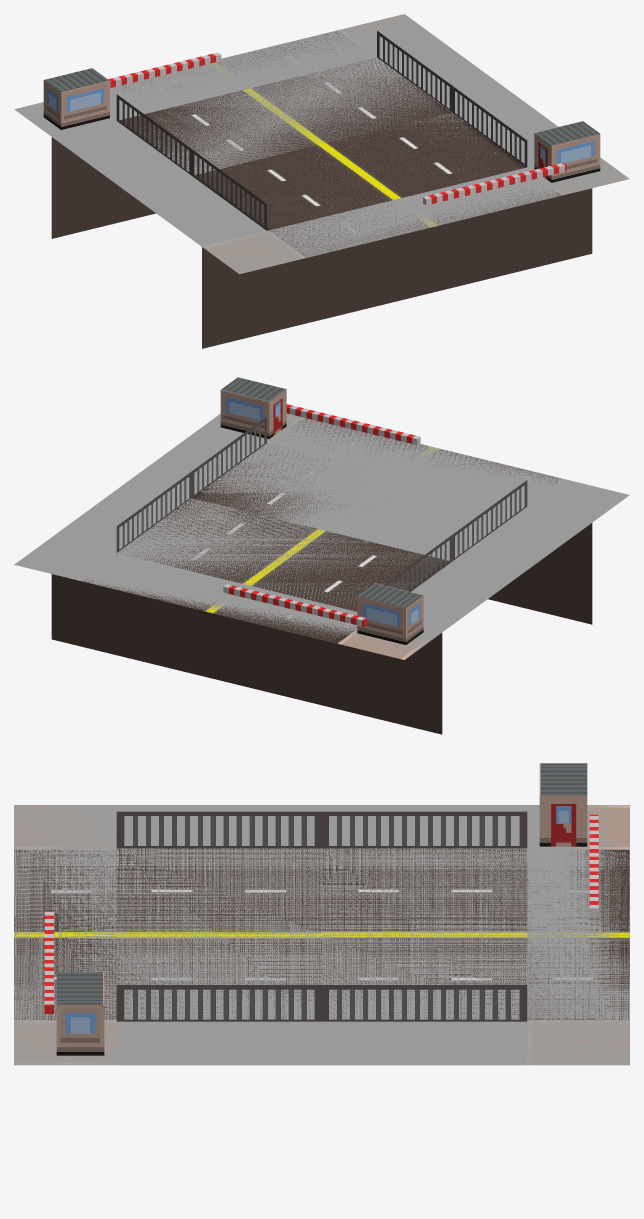
The model's file is BridgeTile.fbx.
3 views of the same model, one above another, from view 1: azimuth 30°, elevation 25°; view 2: azimuth 150°, elevation 25°; view 3: azimuth 270°, elevation 25° (orthographic). The views are drawn at different scales.
Parts seen in each view (by area): view 1: Base, Ground1, polySurface2, polySurface4, Ground2, RoadBlock1, polySurface1, RoadBlock; view 2: Base, Ground2, polySurface4, Ground1, polySurface2, RoadBlock, polySurface1, RoadBlock1; view 3: Base, polySurface2, polySurface4, Ground1, Ground2, polySurface3, polySurface1, RoadBlock, RoadBlock1.
Part boxes in pixels (x1,y1,x2,y2): Base: [14, 14, 629, 274]; Ground1: [202, 121, 628, 348]; polySurface2: [192, 112, 526, 230]; polySurface4: [116, 31, 452, 175]; Ground2: [43, 14, 411, 238]; RoadBlock1: [423, 162, 566, 205]; polySurface1: [452, 86, 527, 166]; RoadBlock: [108, 52, 221, 87]; Base: [14, 413, 629, 659]; Ground2: [50, 572, 442, 734]; polySurface4: [116, 471, 452, 611]; Ground1: [220, 377, 628, 624]; polySurface2: [192, 418, 527, 561]; RoadBlock: [223, 584, 367, 626]; polySurface1: [191, 416, 266, 497]; RoadBlock1: [286, 404, 420, 445]; Base: [14, 805, 629, 1065]; polySurface2: [116, 811, 321, 1021]; polySurface4: [322, 848, 527, 1021]; Ground1: [14, 805, 116, 1065]; Ground2: [527, 763, 629, 1065]; polySurface3: [322, 811, 527, 848]; polySurface1: [116, 985, 321, 1021]; RoadBlock: [589, 814, 598, 916]; RoadBlock1: [44, 912, 53, 1013].
Size of the model in its own units: 2 by 0.6826 by 2.
